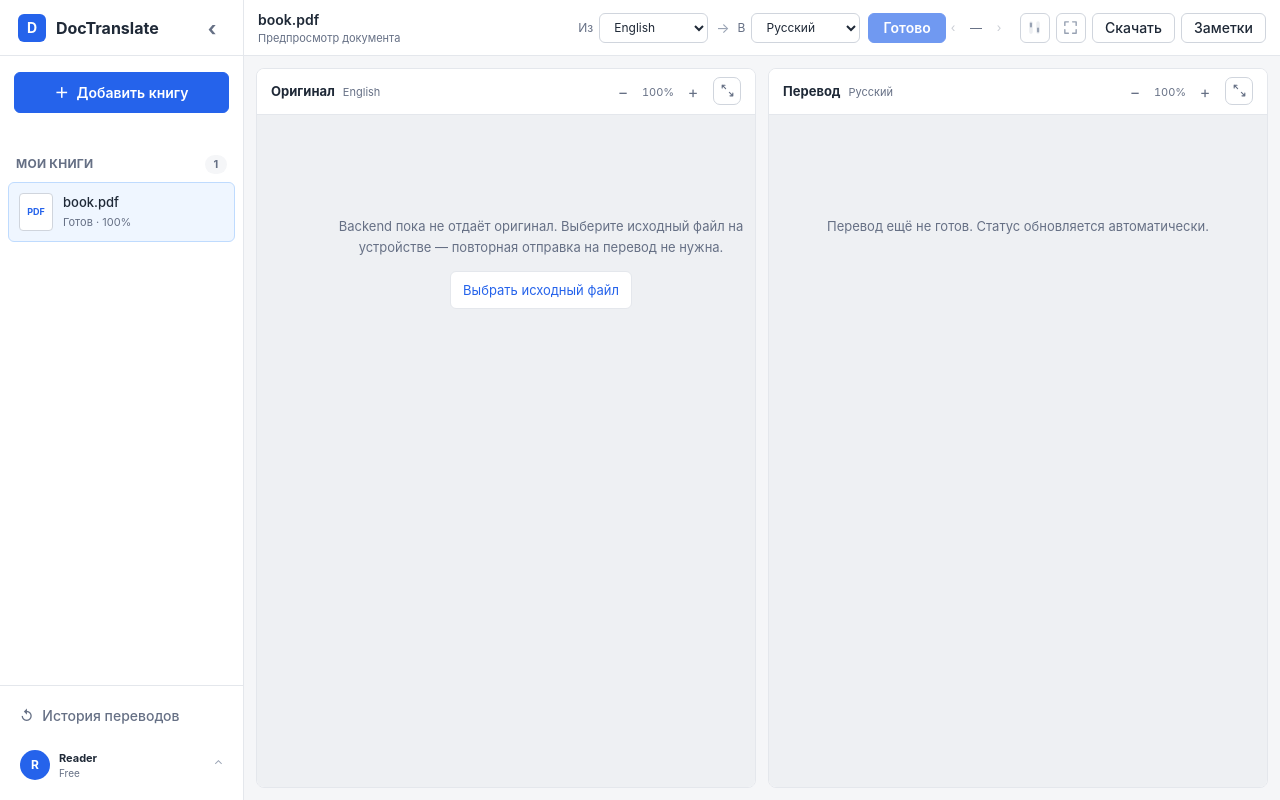
Test: translation download UI › allows retry after a network error
Click the button "Скачать".
click(1133, 28)  # box [1092,12,1175,42]
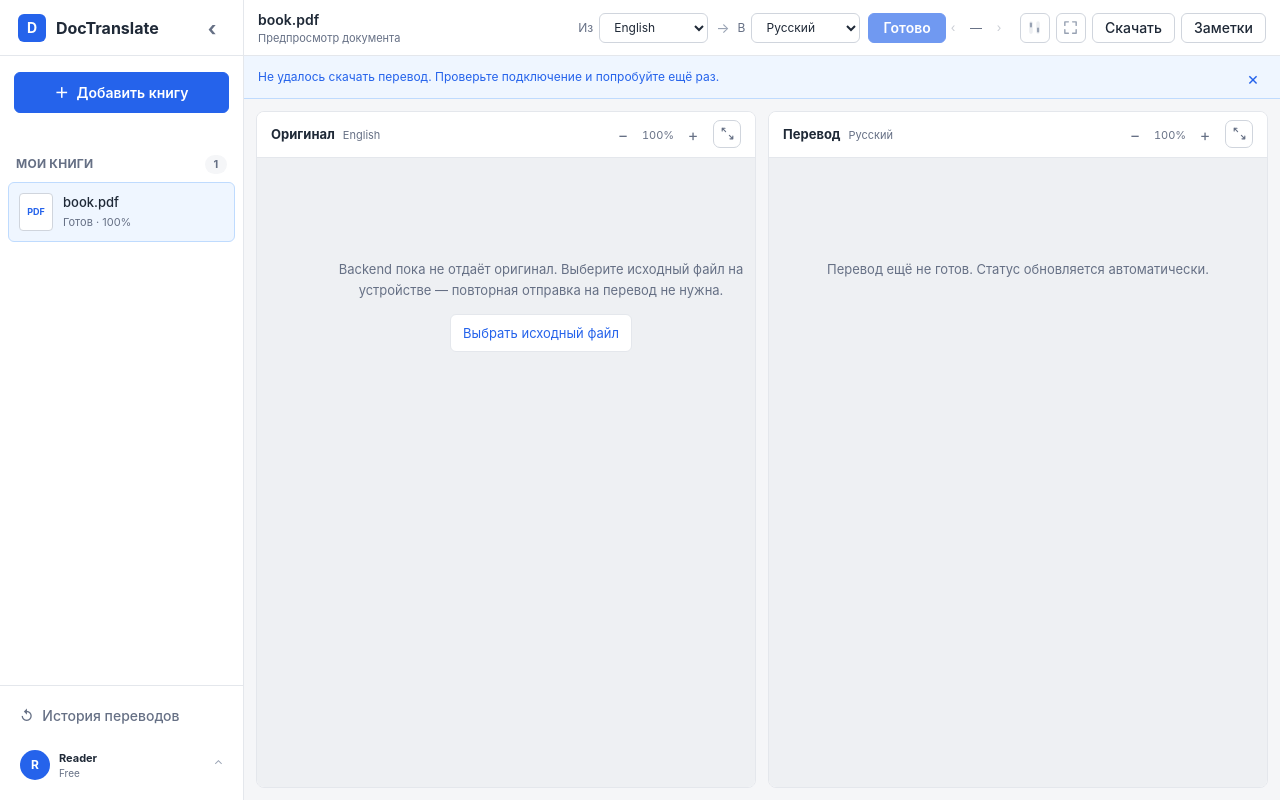
Now the text "Не удалось скачать перевод. Проверьте подключение и попробуйте ещё раз. ×" is shown, box [244,56,1279,99]
Click the button "Скачать".
click(1133, 28)  # box [1092,12,1175,42]
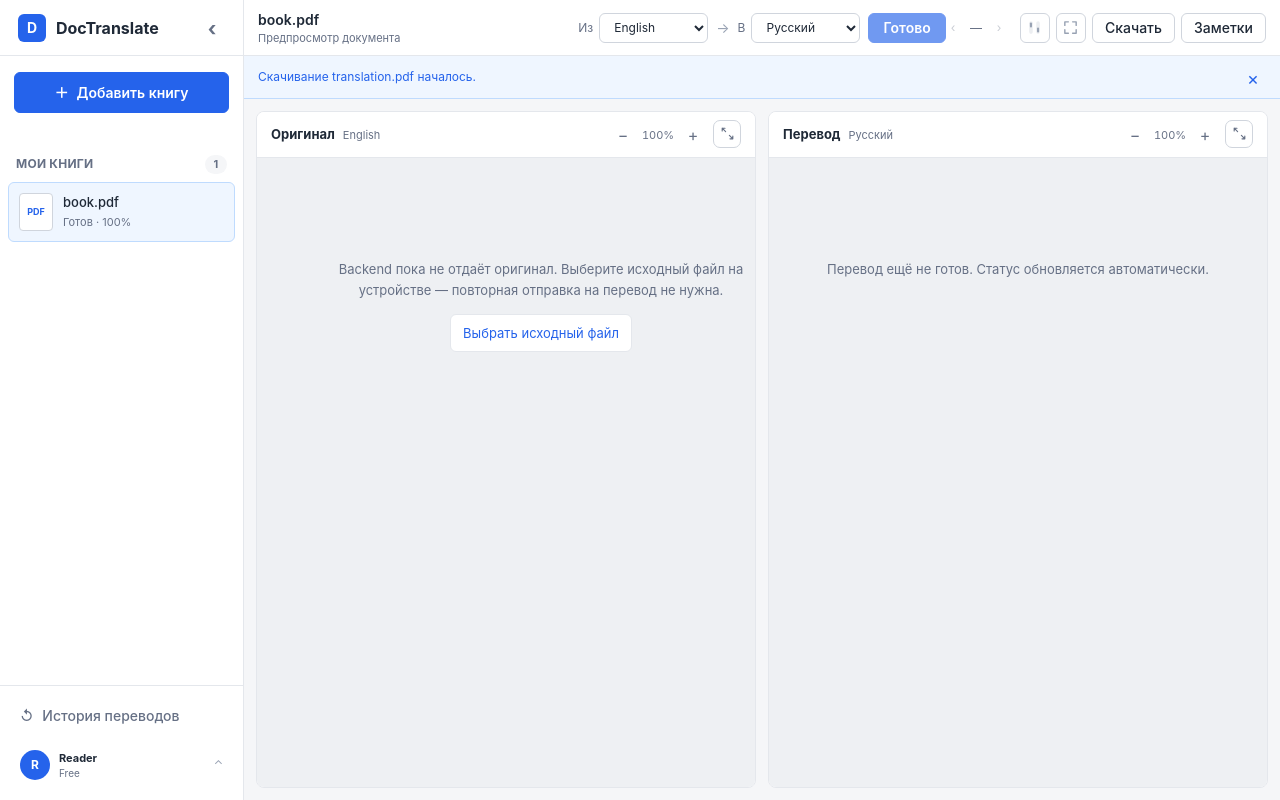
Now the text "Скачивание translation.pdf началось." is shown, box [258,69,476,84]
